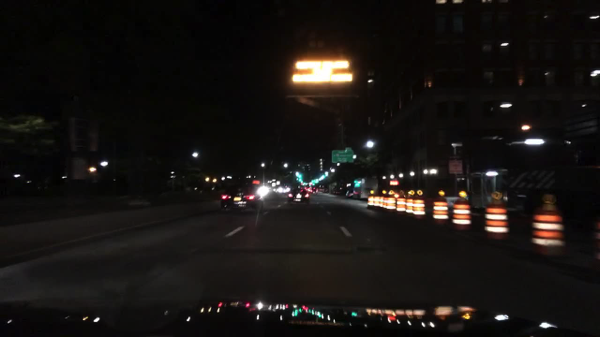car: (220, 184, 266, 213), (116, 195, 152, 211), (56, 194, 95, 207), (287, 186, 310, 204), (257, 185, 272, 197), (275, 184, 292, 193), (343, 188, 353, 198), (308, 187, 317, 195), (333, 188, 341, 195), (322, 187, 329, 191)
traffic light: (297, 178, 302, 184), (310, 180, 315, 184), (298, 174, 301, 178)
traffic sign: (331, 151, 355, 164), (448, 156, 463, 175), (251, 180, 260, 185), (389, 182, 400, 186), (345, 144, 352, 150)
